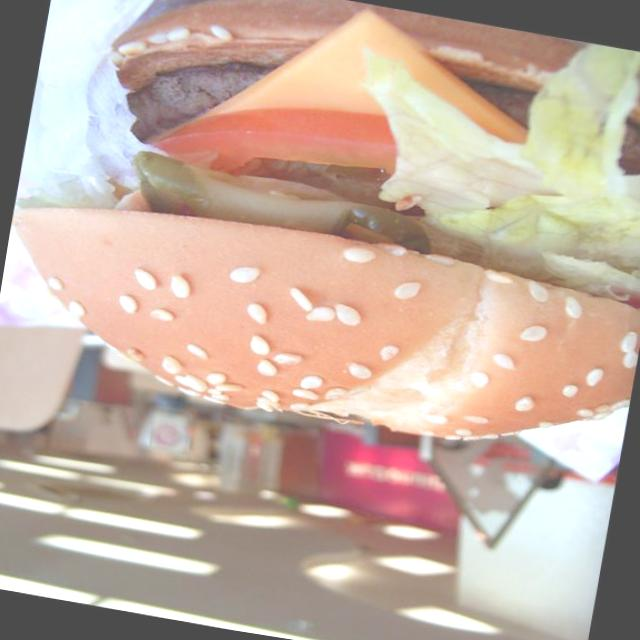Rice: (0, 0, 640, 512)
